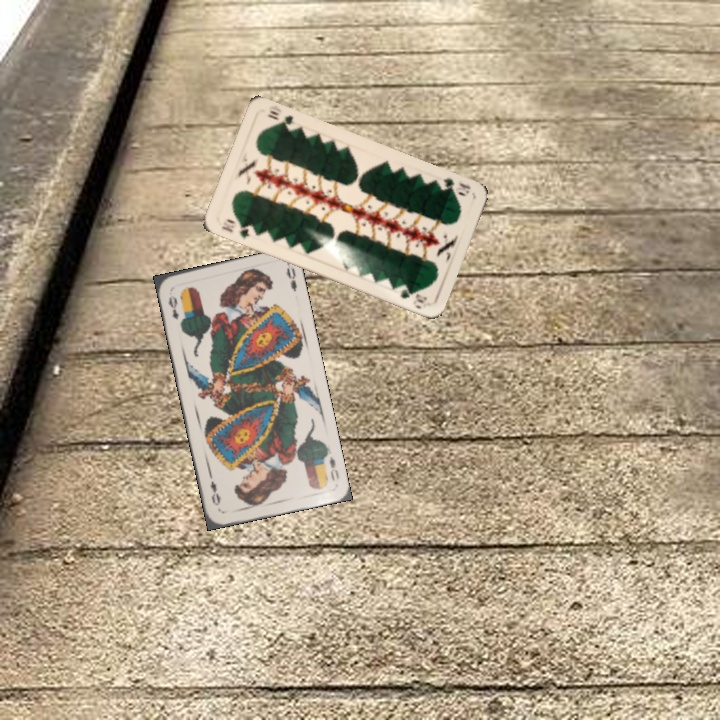EO: (325, 452, 342, 484), (164, 291, 181, 322)
G10: (218, 215, 252, 242), (439, 174, 473, 196)
